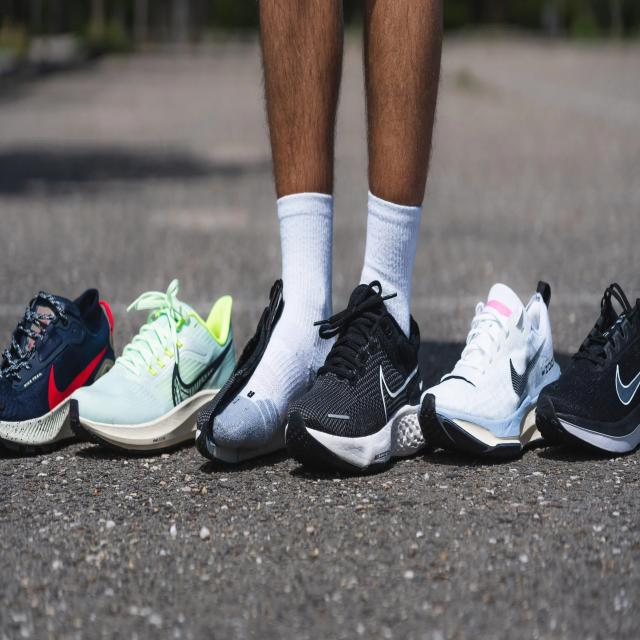nike: (163, 345, 235, 413), (48, 353, 107, 405), (506, 336, 548, 403), (376, 353, 420, 413)
